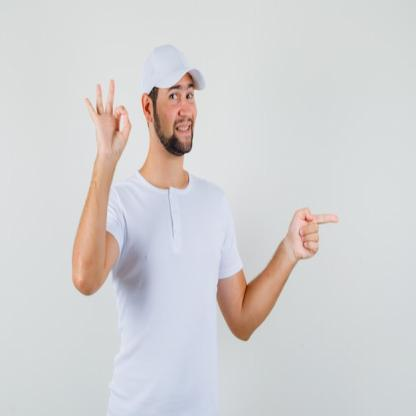ok: (82, 75, 133, 164)
